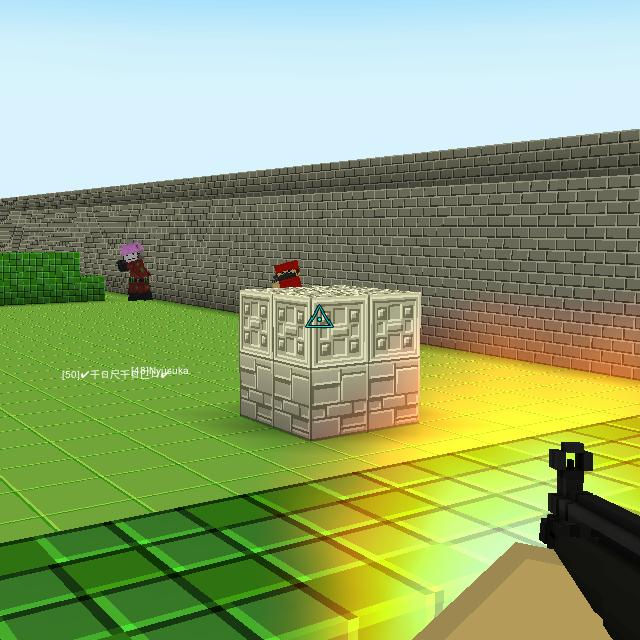enemy: (115, 240, 154, 301), (273, 256, 302, 289)
